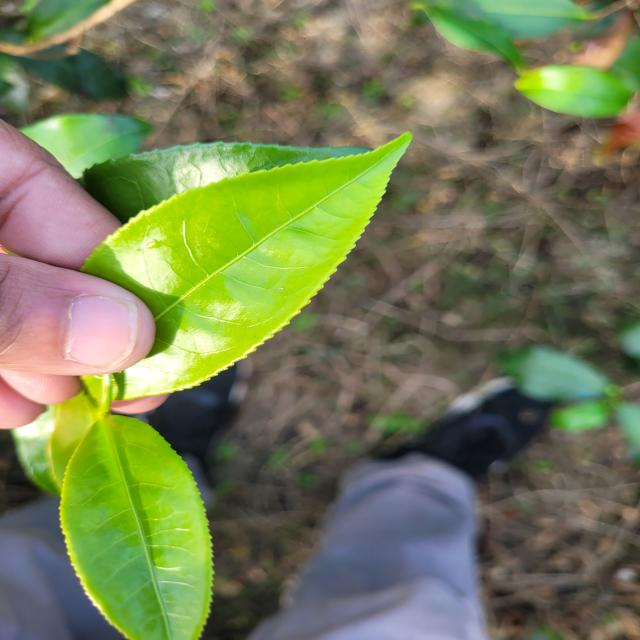Category B(2-4 days): (36, 105, 462, 448)
